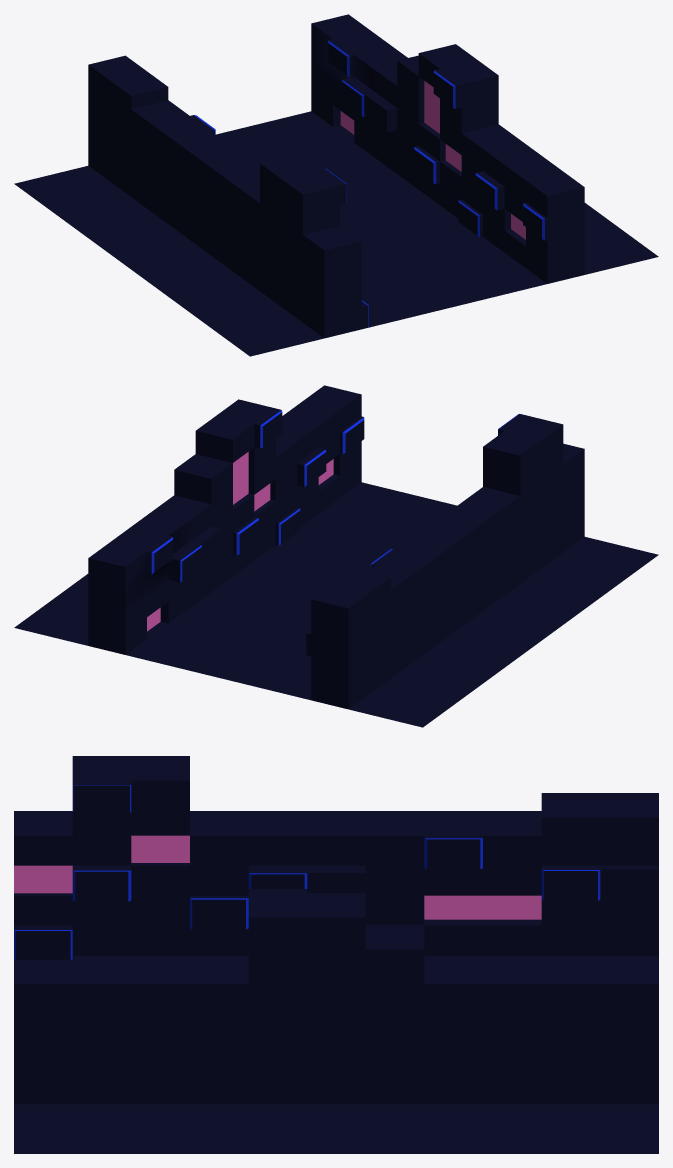
The picture shows the model from 3 angles, top to bottom: view 1: azimuth 30°, elevation 25°; view 2: azimuth 150°, elevation 25°; view 3: azimuth 270°, elevation 25°; orthographic projection. The views are drawn at different scales.
Parts seen in each view (by area): view 1: terrain; view 2: terrain; view 3: terrain.
Part boxes in pixels (x1,y1,x2,y2): terrain: (14, 14, 658, 356); terrain: (14, 385, 658, 727); terrain: (14, 756, 658, 1153).
Bounding box in the file's own units: 10000 × 3194 × 10000.
